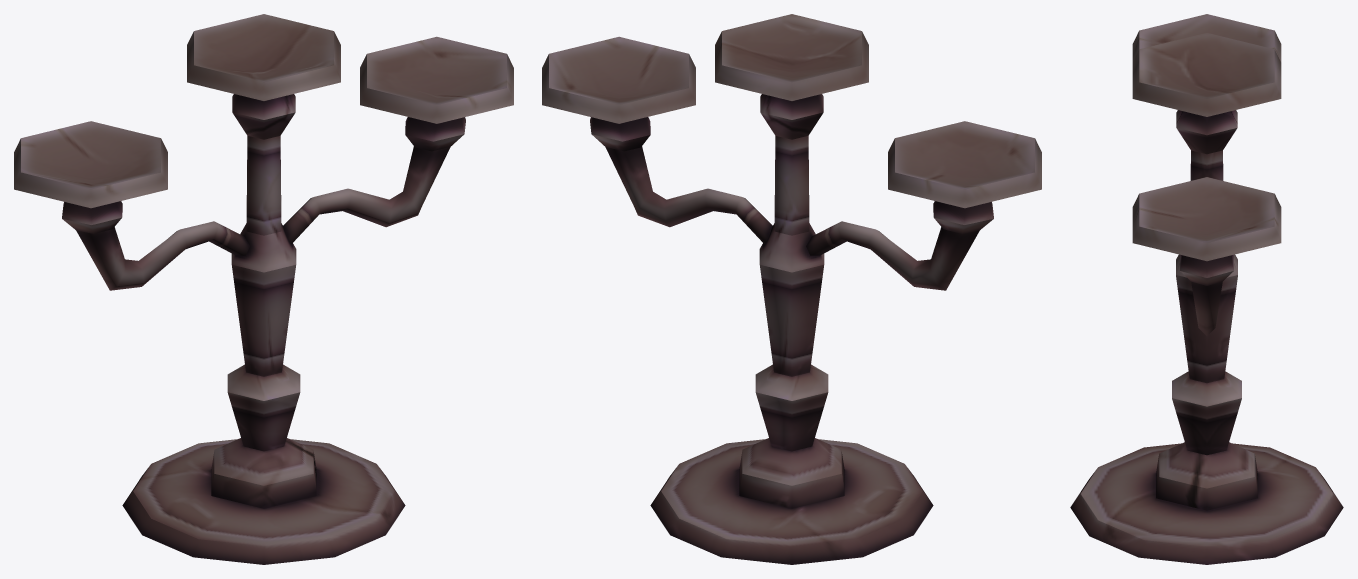
File: candlestick.fbx
3 views of the same model, side by side, from view 1: azimuth 30°, elevation 25°; view 2: azimuth 150°, elevation 25°; view 3: azimuth 270°, elevation 25° (orthographic). The views are drawn at different scales.
Parts seen in each view (by area): view 1: candlestick; view 2: candlestick; view 3: candlestick.
Boxes of the visible parts, x1=… form: candlestick: x1=14, y1=14, x2=513, y2=564; candlestick: x1=542, y1=14, x2=1041, y2=564; candlestick: x1=1070, y1=14, x2=1343, y2=564.
Bounding box in the file's own units: 6.95 × 6.08 × 3.41.
